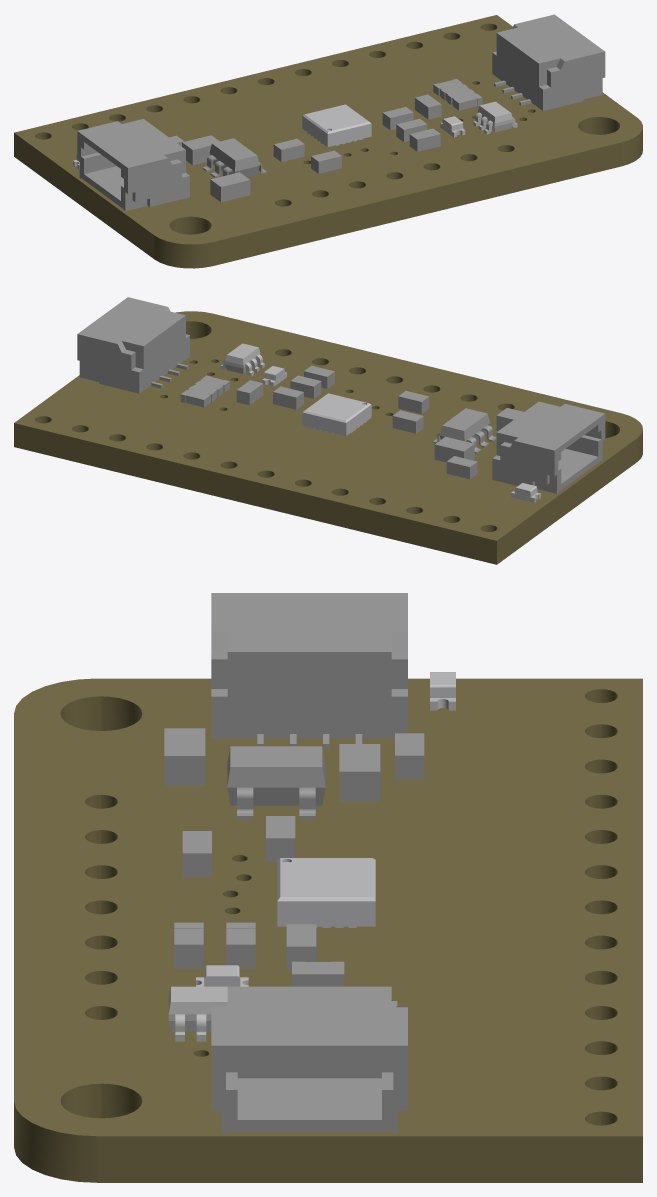
The model's file is ada-1982.glb.
The picture shows the model from 3 angles, top to bottom: view 1: azimuth 30°, elevation 25°; view 2: azimuth 150°, elevation 25°; view 3: azimuth 270°, elevation 25°; orthographic projection. The views are drawn at different scales.
Parts seen in each view (by area): view 1: 0.16666666666666666_0.16666666666666666_0.08333333333333333_, 0.3333333333333333_0.3333333333333333_0.3333333333333333_0, 0.5833333333333334_0.5833333333333334_0.5833333333333334_0.8, 0.5_0.5_0.5_0.85; view 2: 0.16666666666666666_0.16666666666666666_0.08333333333333333_, 0.3333333333333333_0.3333333333333333_0.3333333333333333_0, 0.5833333333333334_0.5833333333333334_0.5833333333333334_0.8, 0.5_0.5_0.5_0.85; view 3: 0.16666666666666666_0.16666666666666666_0.08333333333333333_, 0.3333333333333333_0.3333333333333333_0.3333333333333333_0, 0.5833333333333334_0.5833333333333334_0.5833333333333334_0.8, 0.5_0.5_0.5_0.85.
Boxes of the visible parts, x1=… form: 0.16666666666666666_0.16666666666666666_0.08333333333333333_: x1=14, y1=15, x2=642, y2=268; 0.3333333333333333_0.3333333333333333_0.3333333333333333_0: x1=77, y1=14, x2=605, y2=211; 0.5833333333333334_0.5833333333333334_0.5833333333333334_0.8: x1=73, y1=104, x2=465, y2=169; 0.5_0.5_0.5_0.85: x1=473, y1=101, x2=517, y2=134; 0.16666666666666666_0.16666666666666666_0.08333333333333333_: x1=14, y1=311, x2=642, y2=564; 0.3333333333333333_0.3333333333333333_0.3333333333333333_0: x1=77, y1=297, x2=605, y2=493; 0.5833333333333334_0.5833333333333334_0.5833333333333334_0.8: x1=262, y1=366, x2=540, y2=502; 0.5_0.5_0.5_0.85: x1=220, y1=343, x2=264, y2=376; 0.16666666666666666_0.16666666666666666_0.08333333333333333_: x1=14, y1=678, x2=642, y2=1182; 0.3333333333333333_0.3333333333333333_0.3333333333333333_0: x1=164, y1=593, x2=424, y2=1133; 0.5833333333333334_0.5833333333333334_0.5833333333333334_0.8: x1=196, y1=672, x2=455, y2=986; 0.5_0.5_0.5_0.85: x1=168, y1=986, x2=227, y2=1041.
Bounding box in the file's own units: 3.3 × 0.4529 × 1.92.
